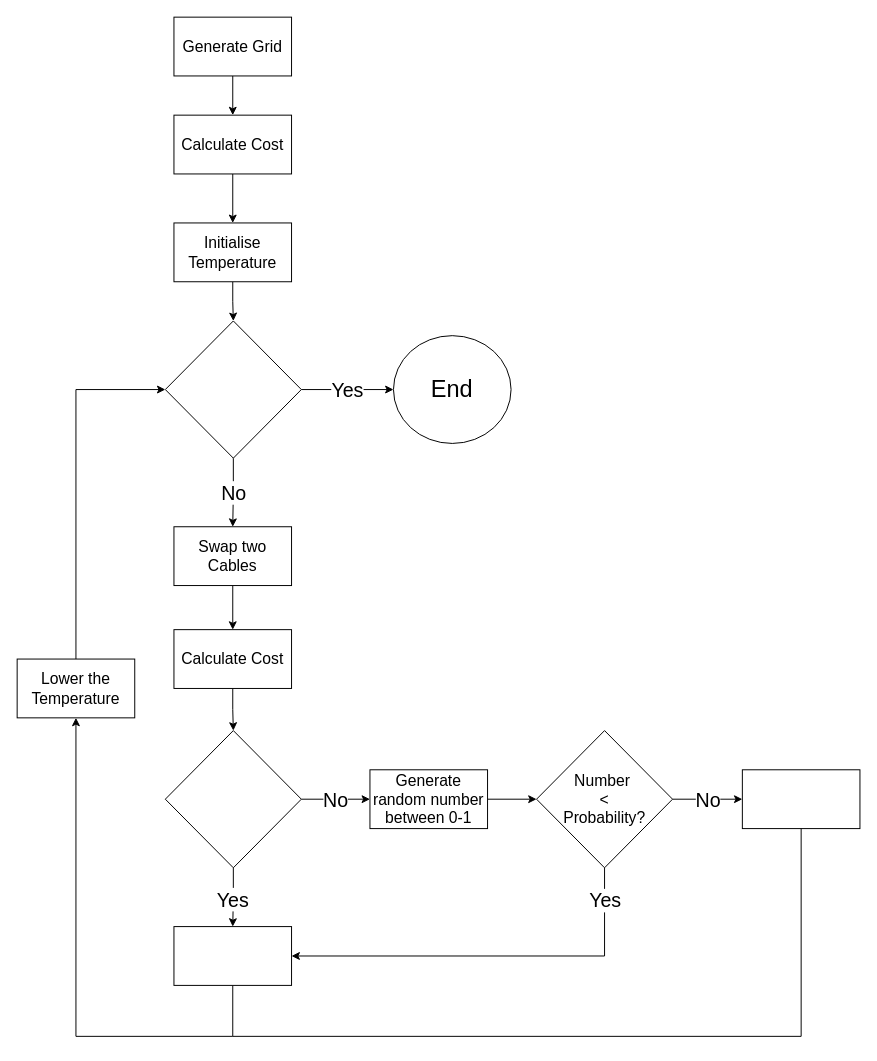
The diagram is 877 pixels wide and 1061 high, and some of its shapes have lost their labels. Each missing label, with the centre of its shape:
"Implement Change" belongs at point (232, 955).
"N iterations reached?" belongs at point (232, 389).
"New Cost < Old Cost?" belongs at point (232, 799).
"Revert Change" belongs at point (800, 799).
